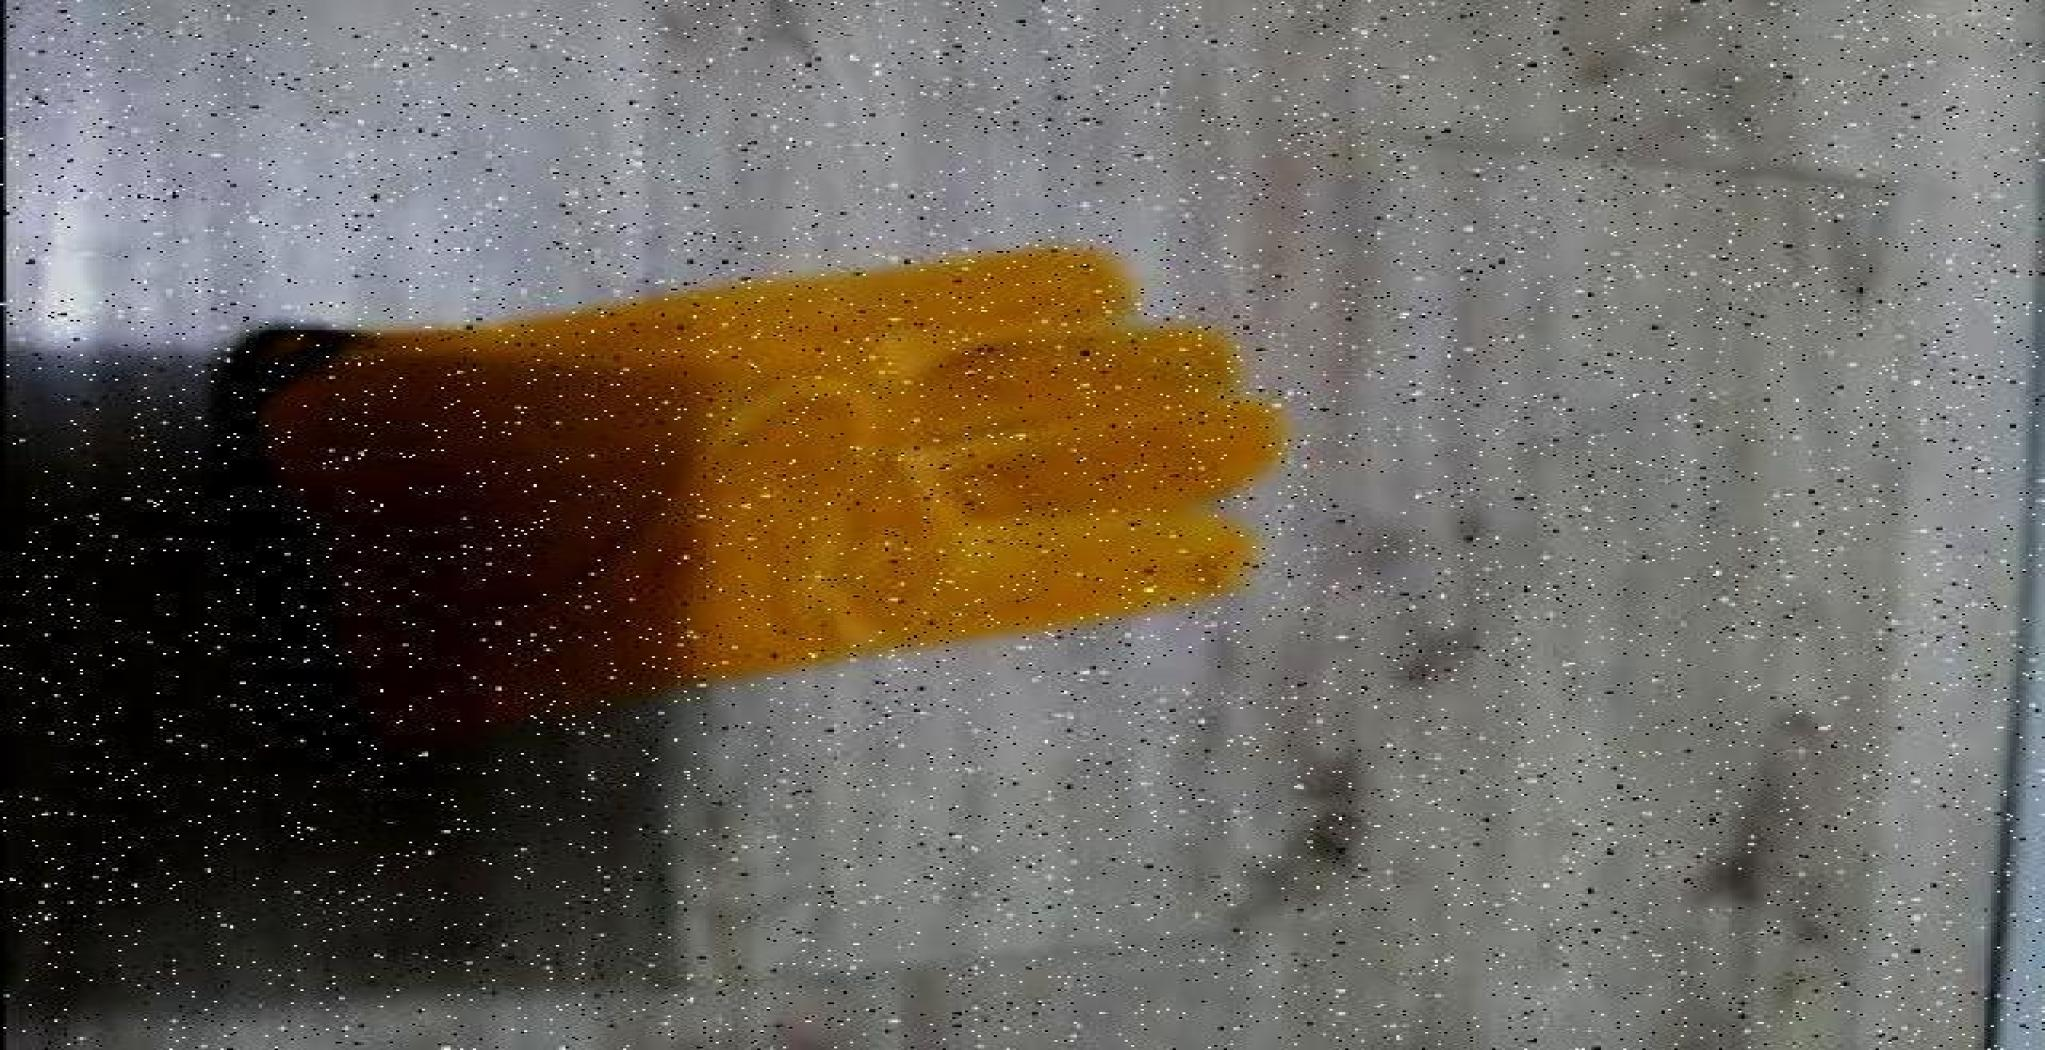gloved: (205, 241, 1287, 751)
